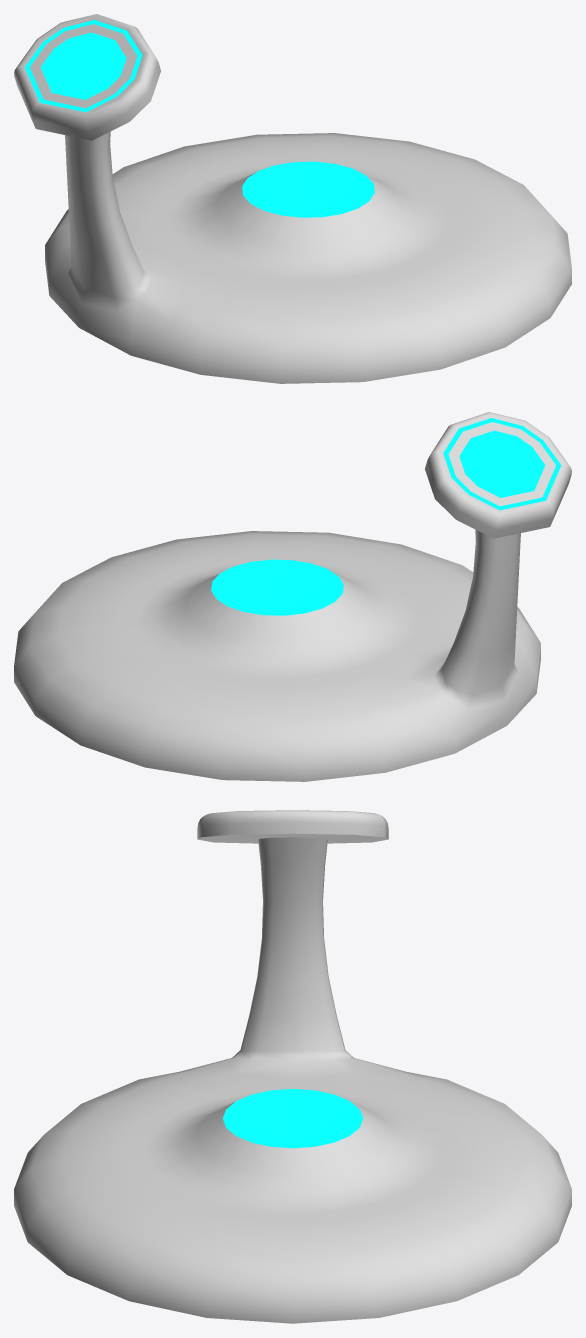
File: StarMap_Console_Mesh.fbx
3 views of the same model, one above another, from view 1: azimuth 30°, elevation 25°; view 2: azimuth 150°, elevation 25°; view 3: azimuth 270°, elevation 25° (orthographic). The views are drawn at different scales.
Parts seen in each view (by area): view 1: StarMap_Console_Mesh; view 2: StarMap_Console_Mesh; view 3: StarMap_Console_Mesh.
Boxes of the visible parts, box(x1,y1,x2,y2) form: StarMap_Console_Mesh: box(14, 14, 571, 383); StarMap_Console_Mesh: box(14, 412, 571, 781); StarMap_Console_Mesh: box(14, 810, 571, 1323).
Bounding box in the file's own units: 752 × 411 × 682.
